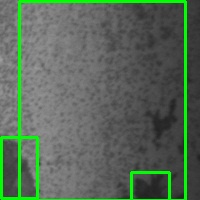patches: (1, 137, 37, 198), (131, 172, 169, 200)
pitted_surface: (20, 1, 185, 200)
